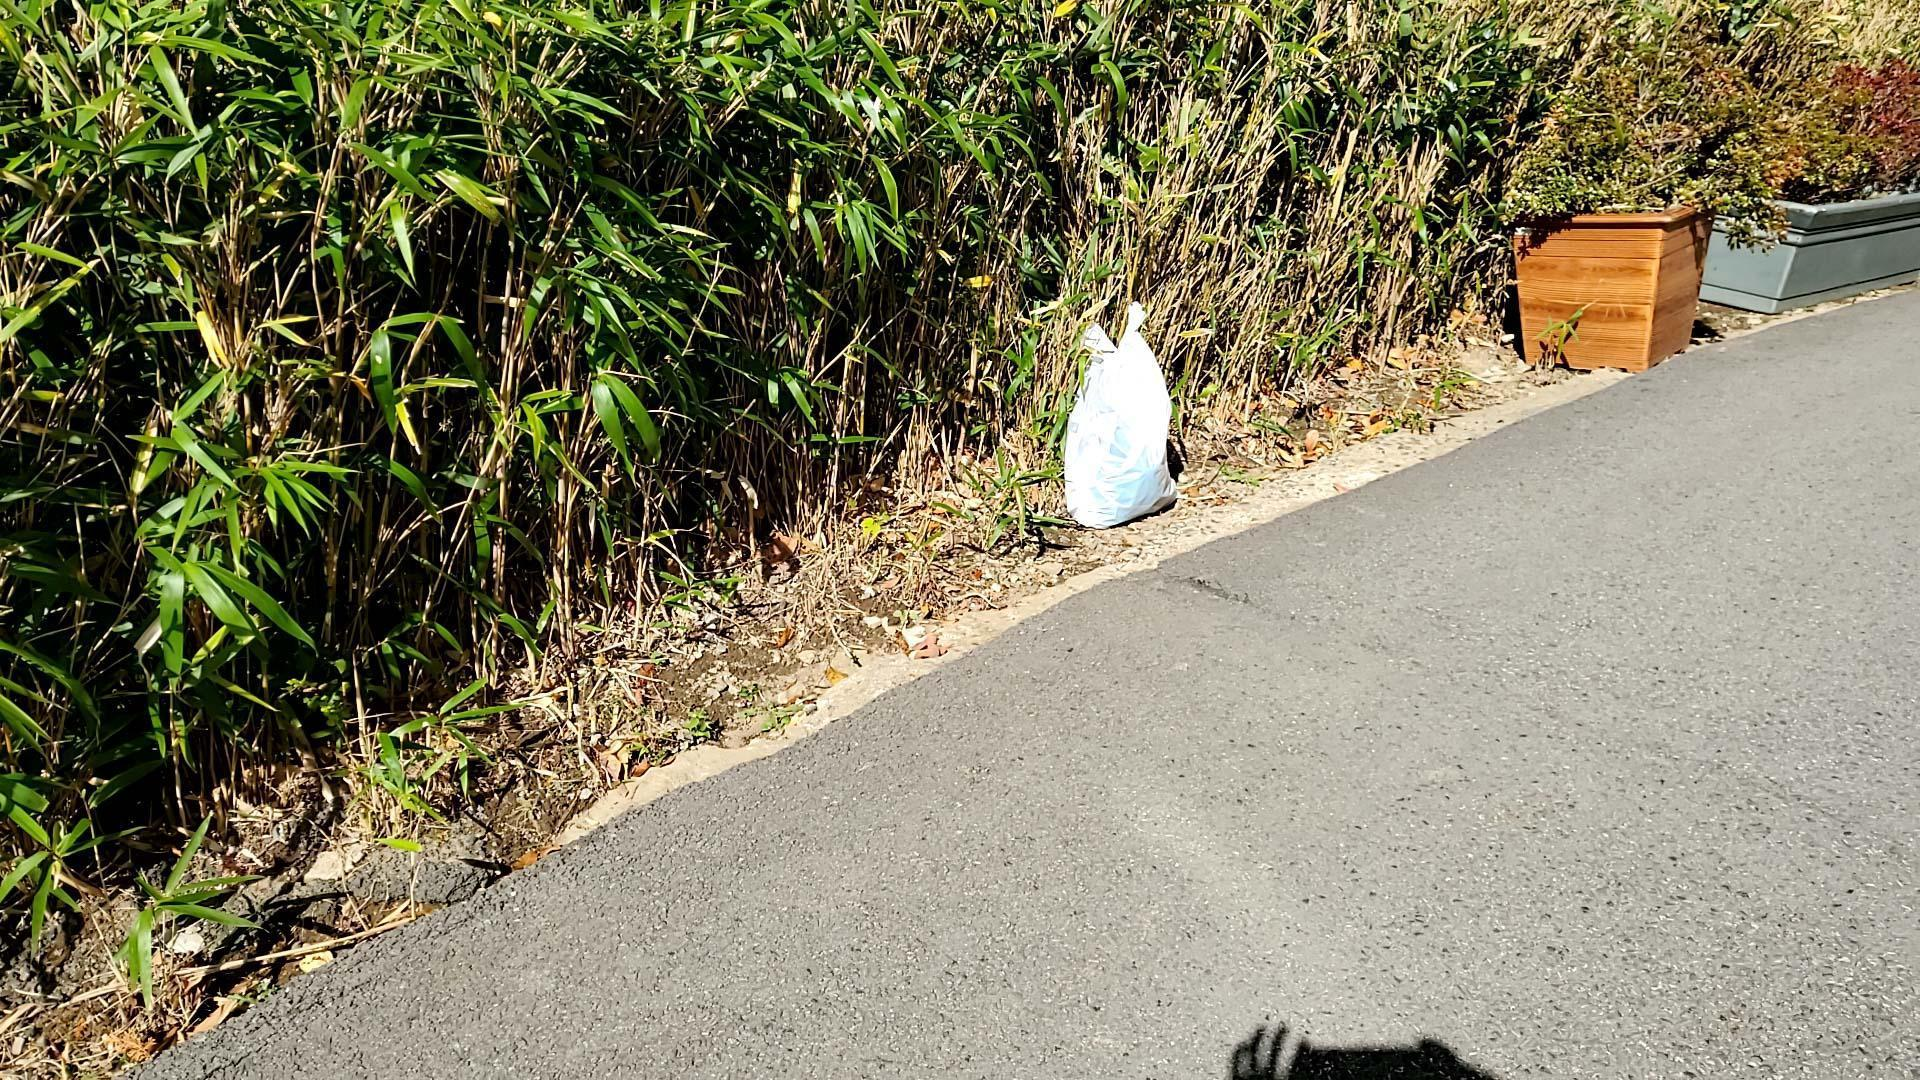white_bag: (1050, 295, 1197, 531)
